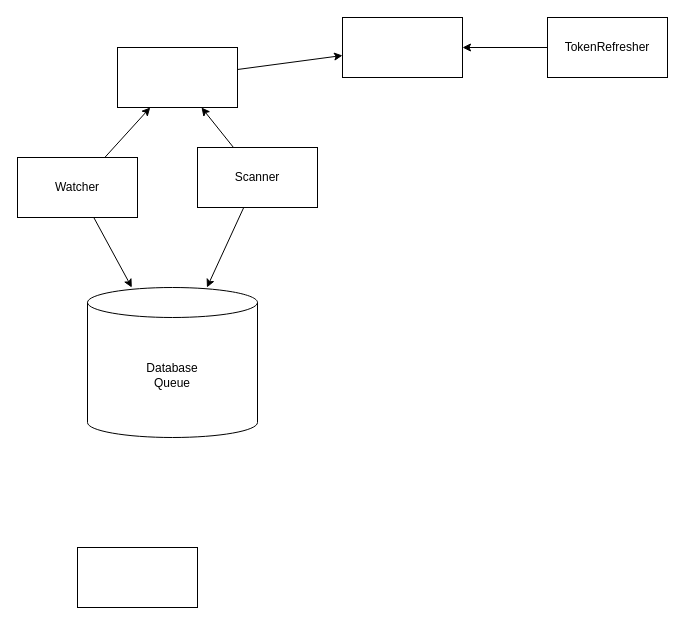
This 685x625 diagram has some shape labels left out. Each missing label, with the centre of its shape:
"AccessToken" belongs at (402,47).
"IMAPClient" belongs at (177,77).
